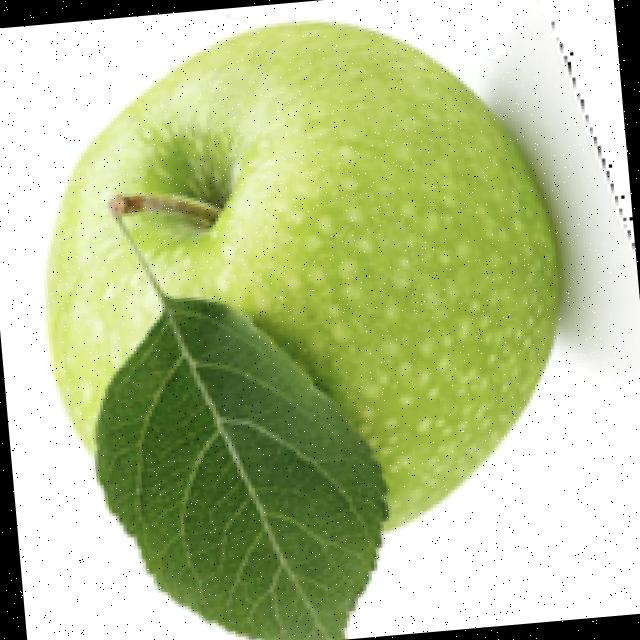apple: (39, 17, 632, 640)
